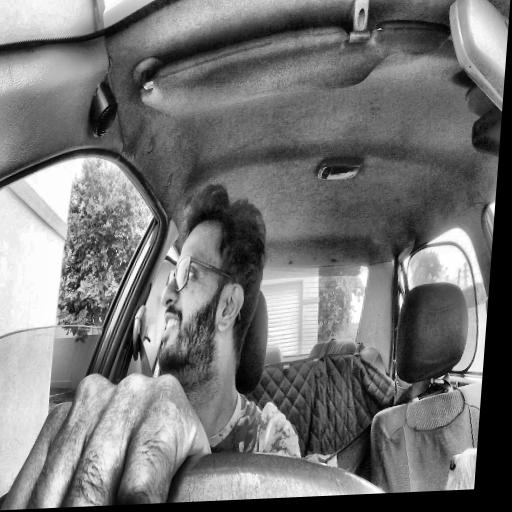awake: (153, 180, 272, 387)
